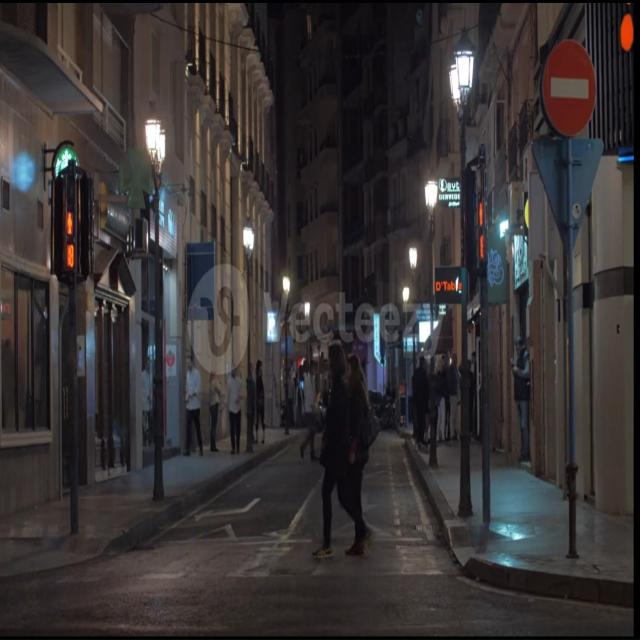pedestrian: (313, 343, 377, 558)
